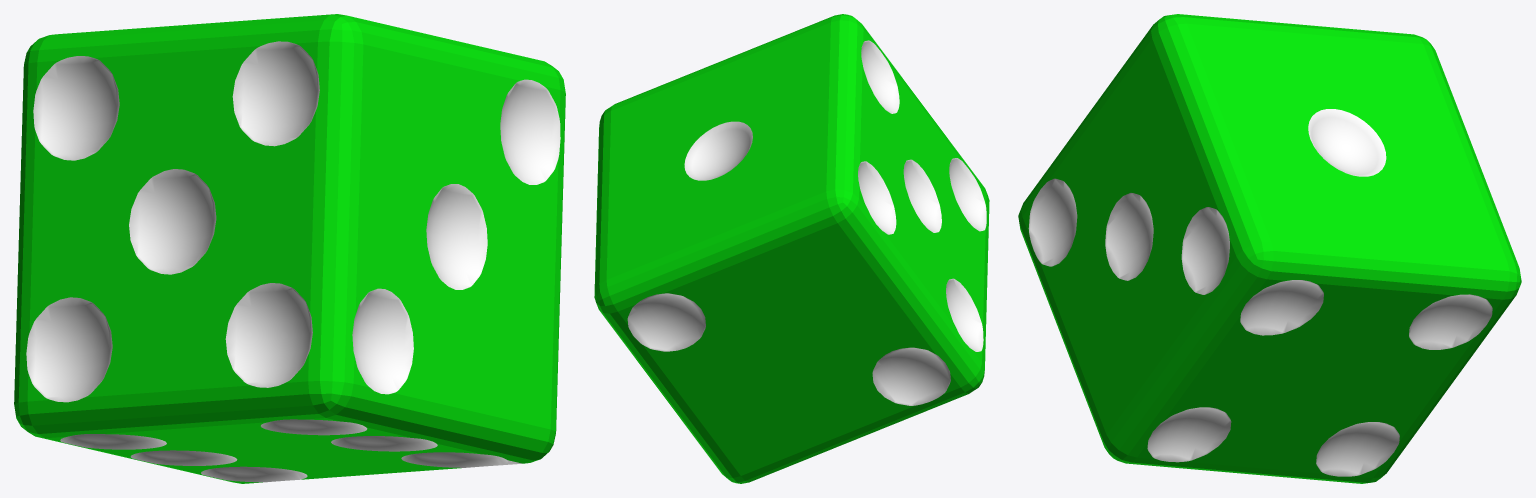
3 views of the same model, side by side, from view 1: azimuth 30°, elevation 25°; view 2: azimuth 150°, elevation 25°; view 3: azimuth 270°, elevation 25° (orthographic). The views are drawn at different scales.
Visible parts, largest first — view 1: Xí Ngầu.003; view 2: Xí Ngầu.003; view 3: Xí Ngầu.003.
Part boxes in pixels (x1,y1,x2,y2): Xí Ngầu.003: (14, 14, 565, 483); Xí Ngầu.003: (594, 14, 989, 483); Xí Ngầu.003: (1018, 14, 1521, 483).
Size of the model in its own units: 0.5 by 0.4994 by 0.4997.
